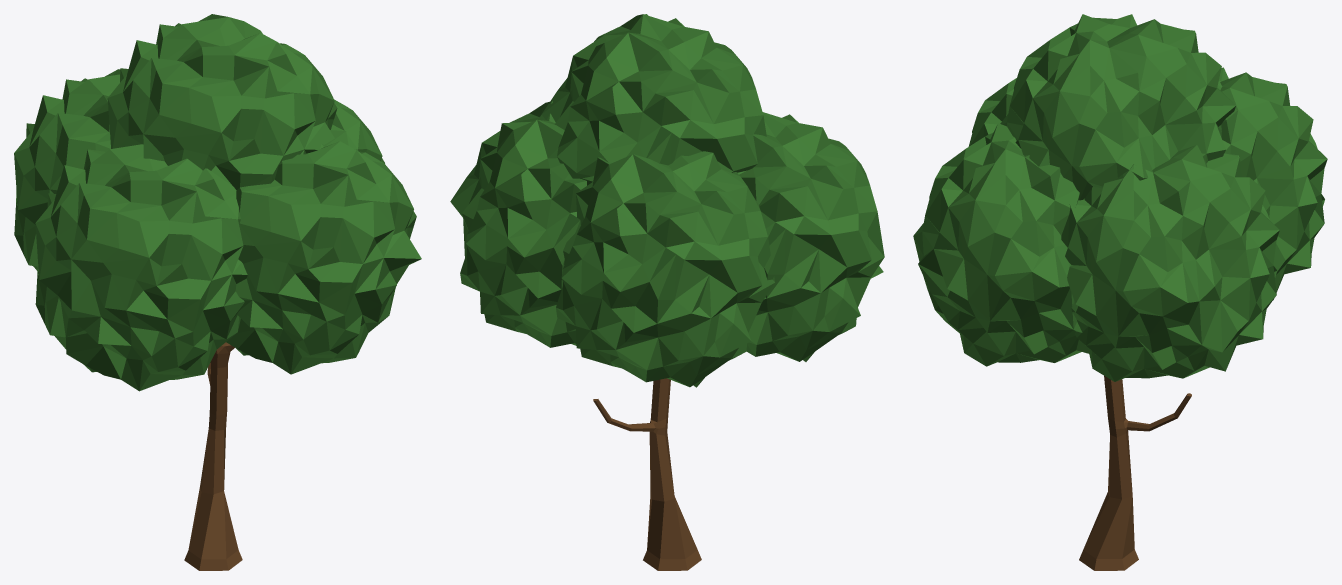
File: folliage4.glb
3 renders of one model, left to right at view 1: azimuth 30°, elevation 25°; view 2: azimuth 150°, elevation 25°; view 3: azimuth 270°, elevation 25°, orthographic. The views are drawn at different scales.
Visible parts, largest first — view 1: LowPoly Tree 07.036; view 2: LowPoly Tree 07.036; view 3: LowPoly Tree 07.036.
Boxes of the visible parts, x1,y1,x2,y2 form: LowPoly Tree 07.036: [14, 14, 421, 570]; LowPoly Tree 07.036: [450, 14, 884, 570]; LowPoly Tree 07.036: [913, 14, 1327, 570].
Bounding box in the file's own units: 1.14 × 1.56 × 1.08.
